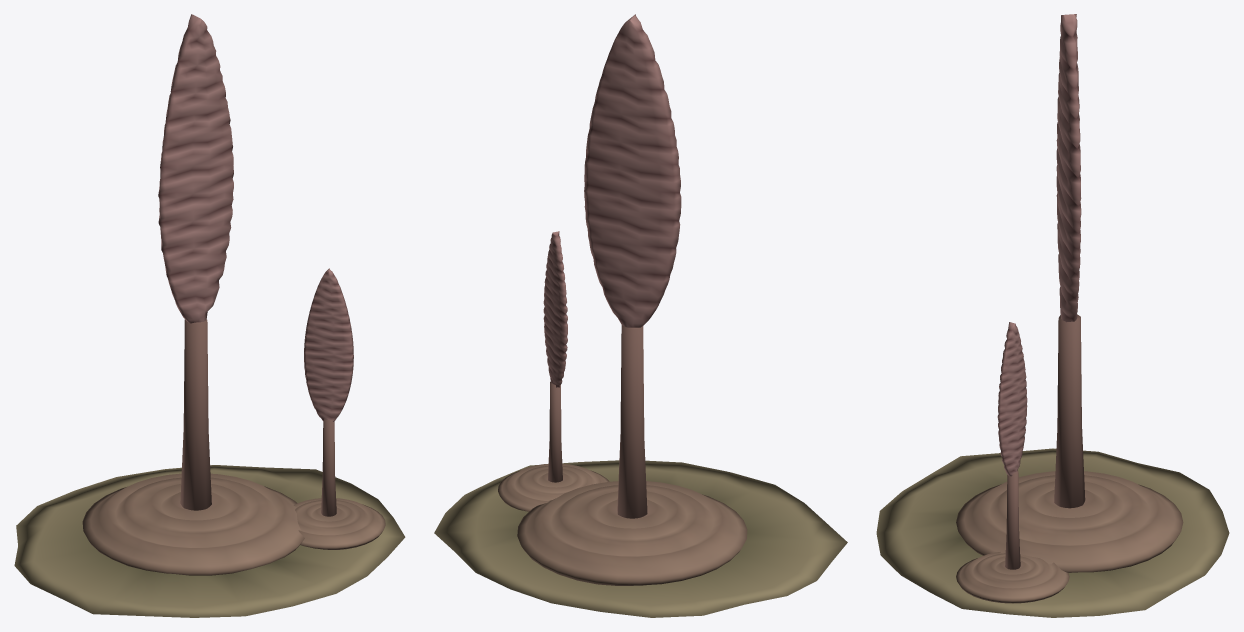
File: Charniodiscus.fbx
3 renders of one model, left to right at view 1: azimuth 30°, elevation 25°; view 2: azimuth 150°, elevation 25°; view 3: azimuth 270°, elevation 25°, orthographic.
Visible parts, largest first — view 1: Charniodiscus; view 2: Charniodiscus; view 3: Charniodiscus.
Part boxes in pixels (bbox=[...]): Charniodiscus: bbox=[14, 14, 405, 617]; Charniodiscus: bbox=[434, 14, 847, 617]; Charniodiscus: bbox=[876, 14, 1229, 617].
Bounding box in the file's own units: 1.2 × 1.71 × 1.06.
